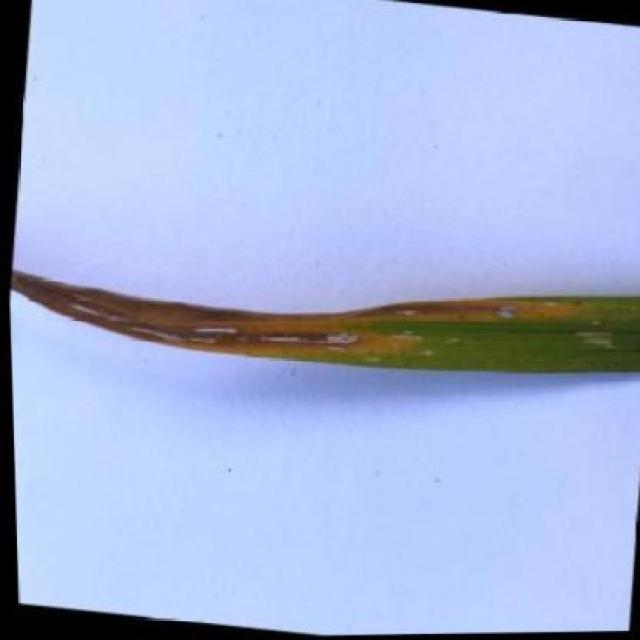Rice False Smut: (9, 272, 640, 374)
